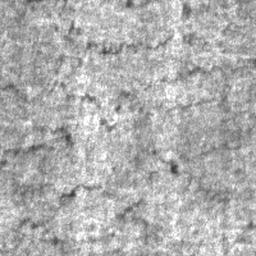Crazing: (0, 0, 256, 256), (221, 207, 256, 256), (200, 140, 242, 156), (87, 232, 115, 245), (125, 0, 164, 9), (220, 0, 252, 9), (99, 0, 111, 5)
